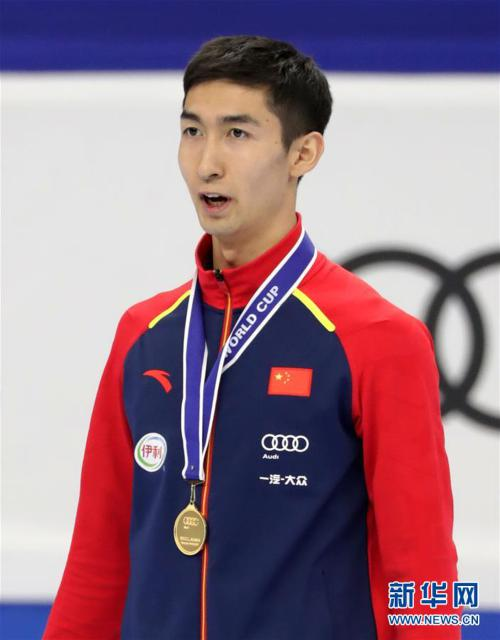wdj: (169, 35, 337, 239)
